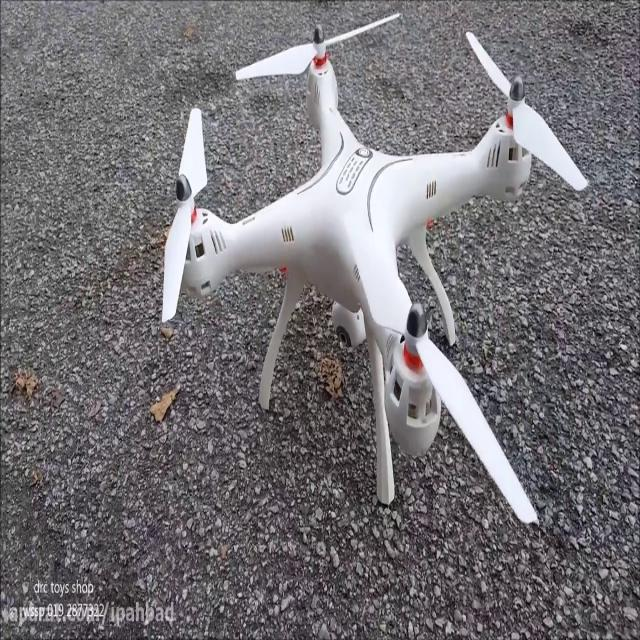drone: (158, 7, 592, 532)
